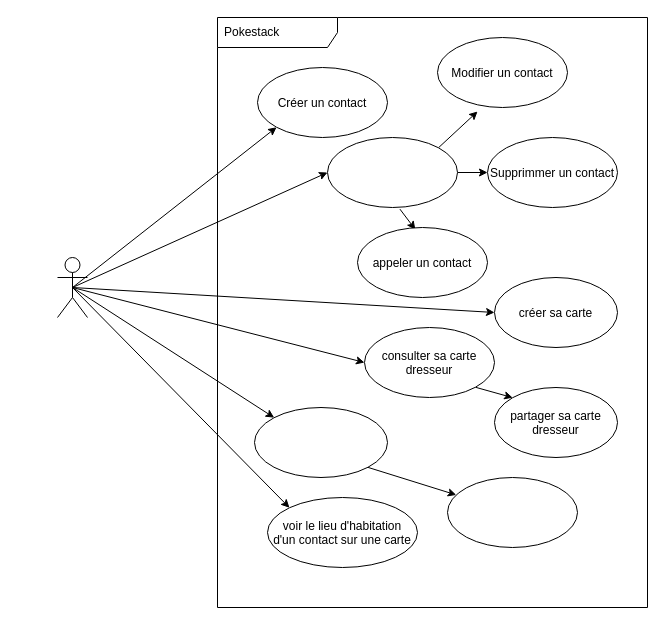
This 665x625 diagram has some shape labels left out. Each missing label, with the centre of its shape:
"consulter les caractéristiques Pokemon" goes at (x=512, y=512).
"consulter les contacts" goes at (x=392, y=172).
"consulter les pokemons" goes at (x=321, y=442).
"Utilisateur / dresseur" goes at (x=72, y=287).
